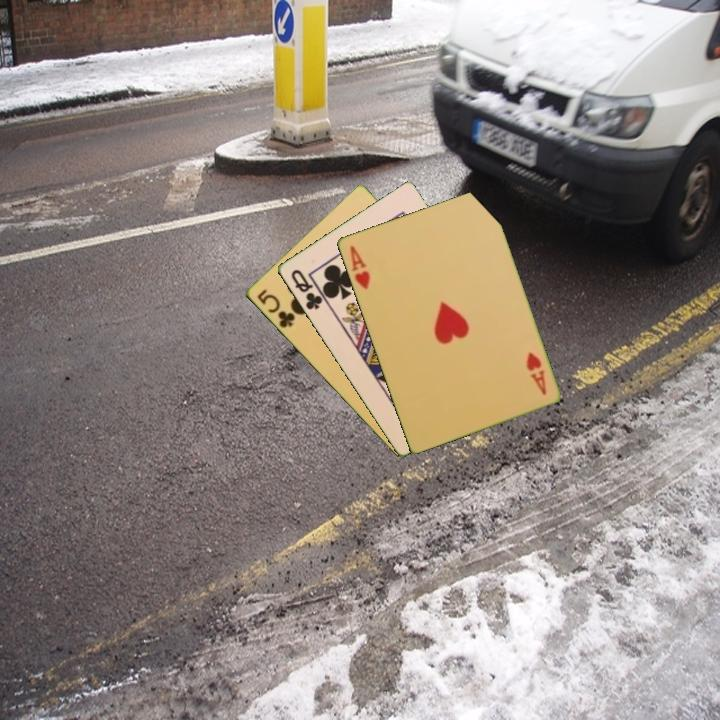5c: (253, 285, 298, 331)
Ah: (346, 242, 373, 293), (522, 348, 549, 398)
Qc: (287, 265, 330, 313)
